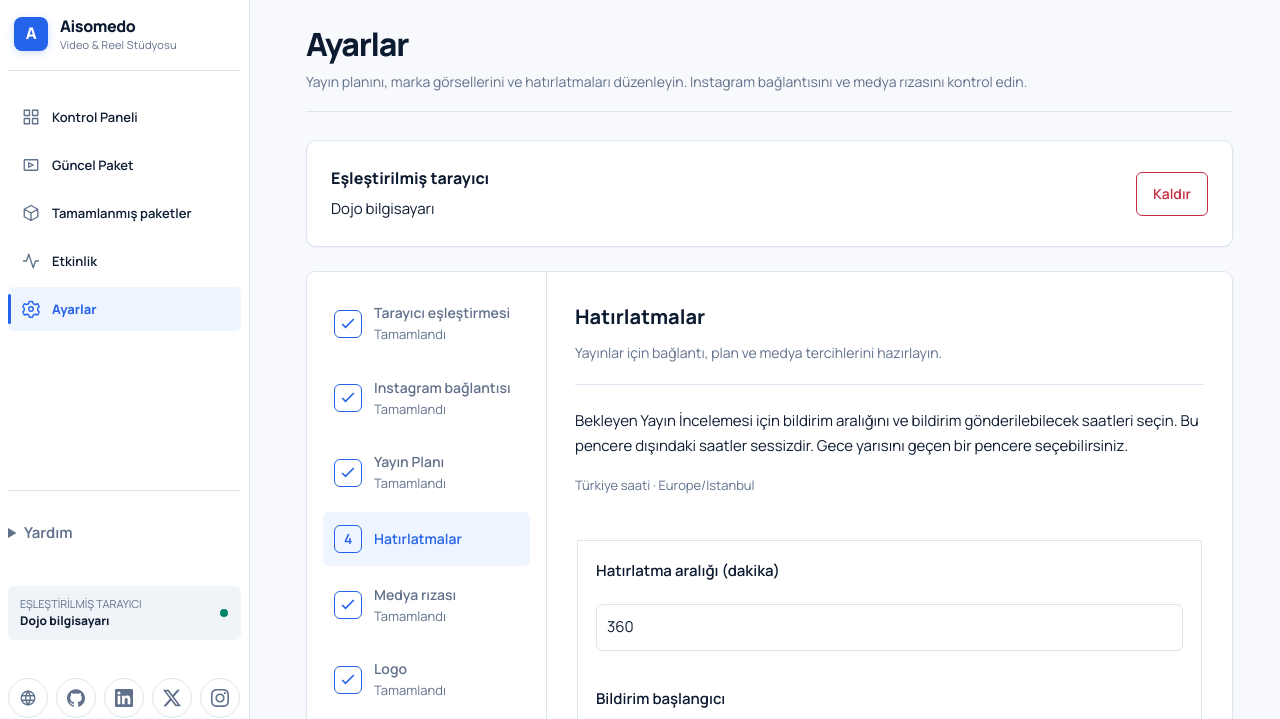
Test: keeps reminder draft after rejection and refresh, then adopts server values explicitly
Replace the text in the number field labelled "Hatırlatma aralığı (dakika)" with "120" at (890, 627), box [596,604,1183,651]
(page scrolled)
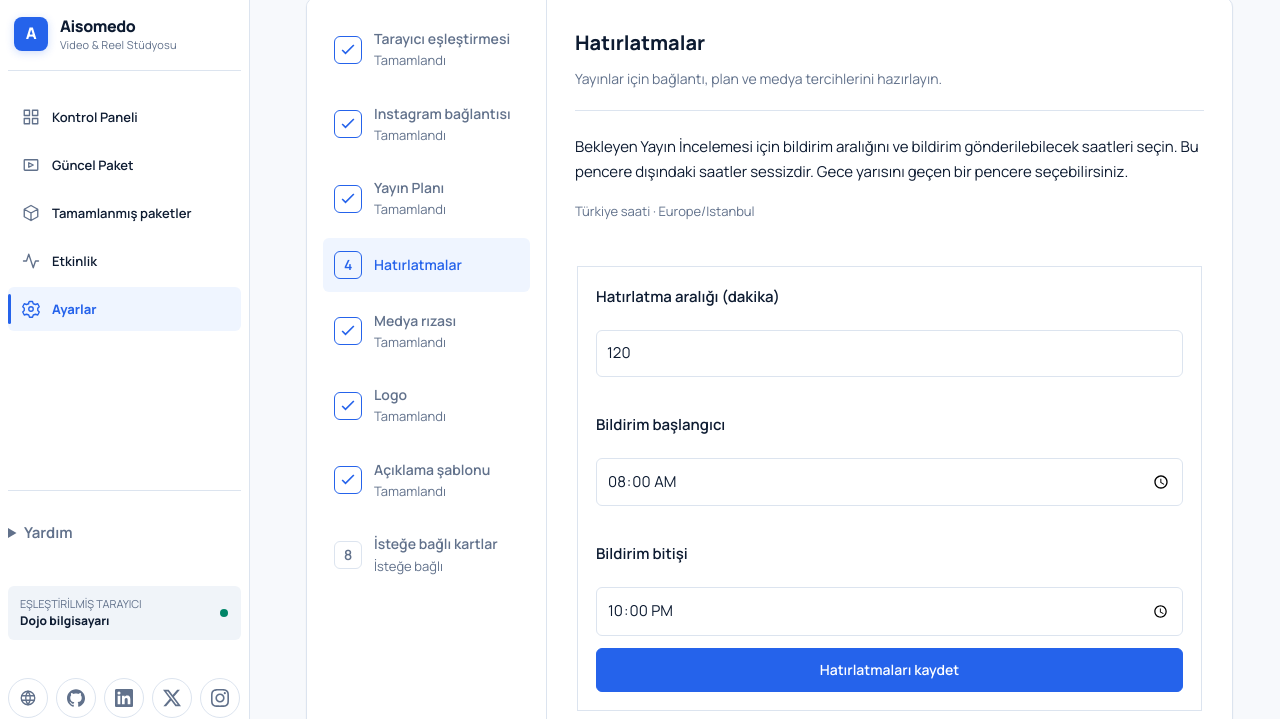
Click the button "Hatırlatmaları kaydet" at (890, 670), box [596,648,1183,692]
Wait 1 ms
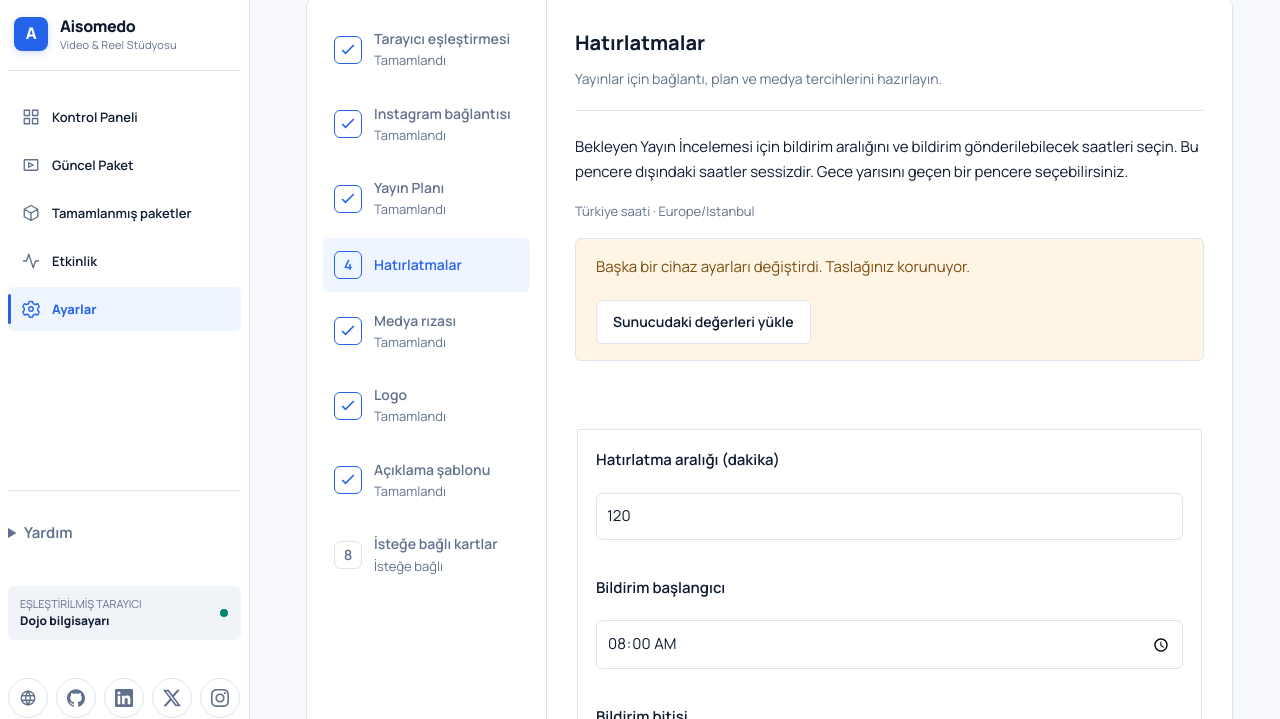
Click the button "Sunucudaki değerleri yükle" at (703, 322), box [596,300,810,344]
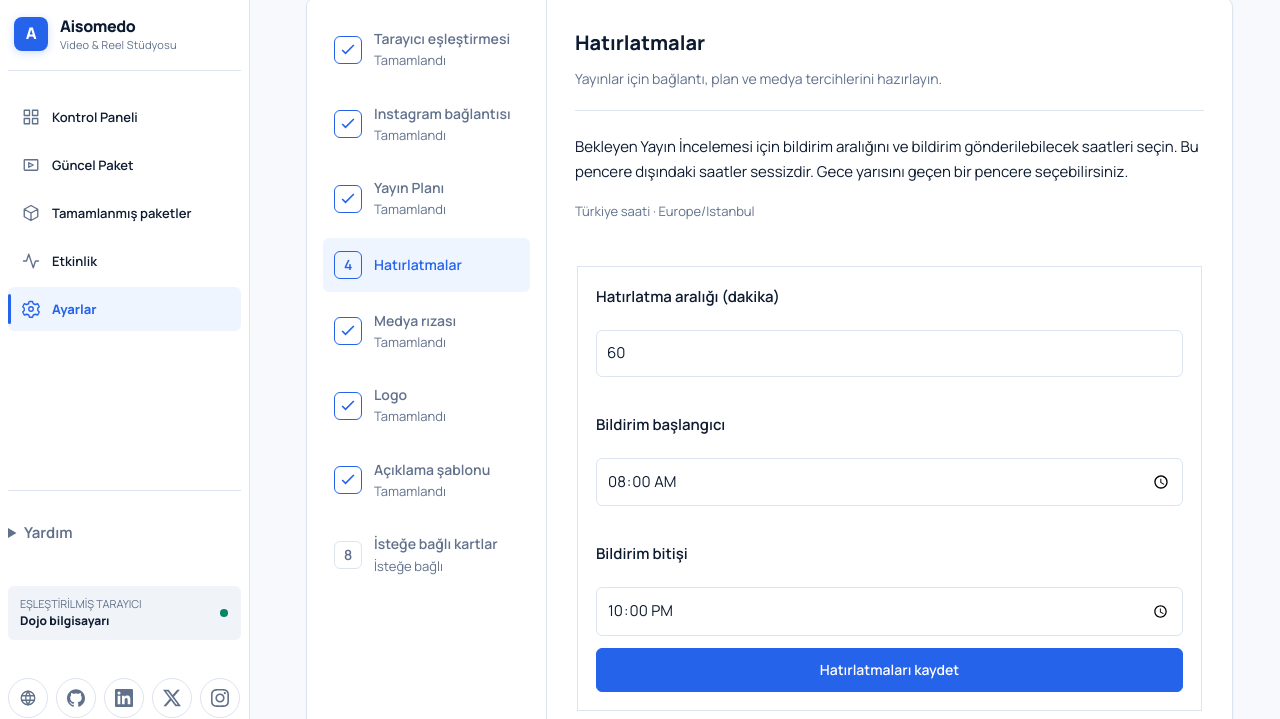
Expected: the number field labelled "Hatırlatma aralığı (dakika)" holds "60", [596,330,1183,377]
